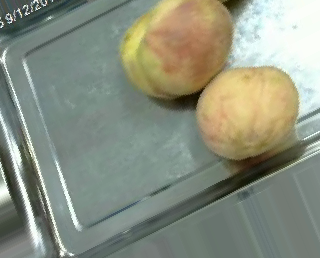Peach: (121, 1, 229, 98), (195, 64, 299, 160)
